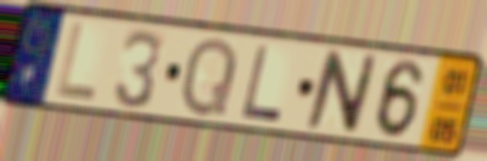3: (114, 25, 163, 112)
6: (374, 56, 429, 142)
L: (52, 19, 100, 103), (238, 43, 286, 125)
N: (302, 47, 381, 138)
Q: (177, 34, 240, 120)
